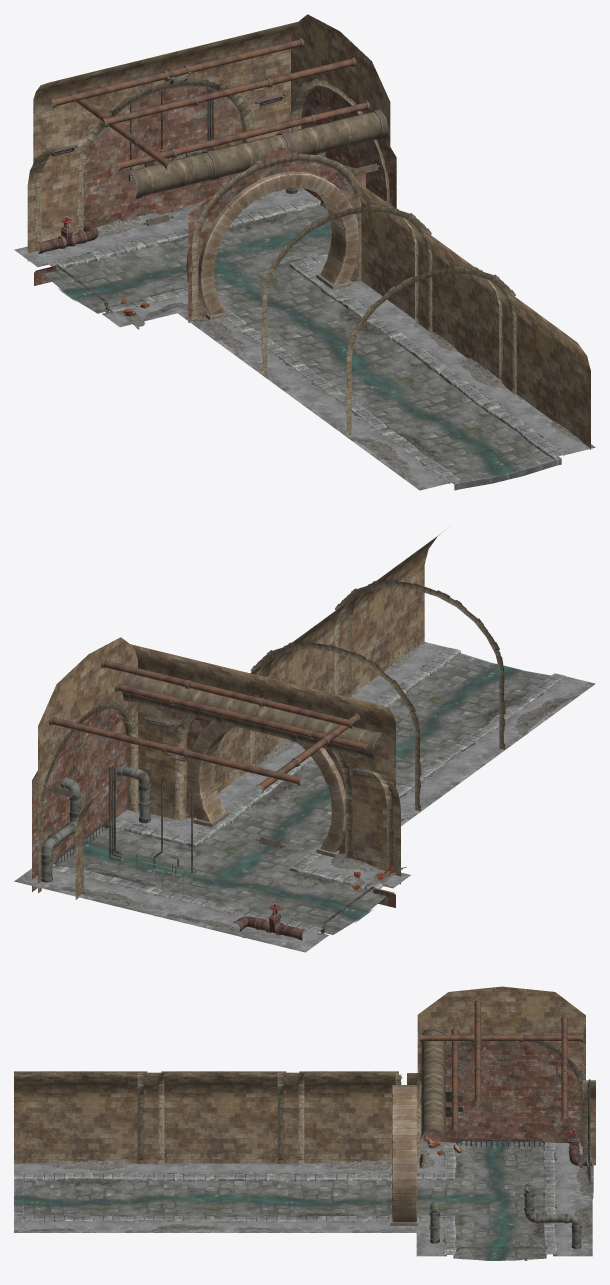
Rendered from t3_road_end_a.glb.
3 views of the same model, one above another, from view 1: azimuth 30°, elevation 25°; view 2: azimuth 150°, elevation 25°; view 3: azimuth 270°, elevation 25° (orthographic). The views are drawn at different scales.
Visible parts, largest first — view 1: um_t3_road_end_a_model_t3_road_end_a_modelShape, sewage_mesh2, sewage_mesh1; view 2: um_t3_road_end_a_model_t3_road_end_a_modelShape, sewage_mesh2, sewage_mesh1; view 3: um_t3_road_end_a_model_t3_road_end_a_modelShape, sewage_mesh2, sewage_mesh1.
Boxes of the visible parts, bbox=[...] form: um_t3_road_end_a_model_t3_road_end_a_modelShape: bbox=[14, 14, 595, 490]; sewage_mesh2: bbox=[214, 258, 521, 476]; sewage_mesh1: bbox=[58, 223, 331, 301]; um_t3_road_end_a_model_t3_road_end_a_modelShape: bbox=[14, 531, 595, 952]; sewage_mesh2: bbox=[210, 663, 524, 882]; sewage_mesh1: bbox=[60, 839, 372, 922]; um_t3_road_end_a_model_t3_road_end_a_modelShape: bbox=[14, 986, 595, 1260]; sewage_mesh2: bbox=[14, 1193, 501, 1207]; sewage_mesh1: bbox=[482, 1141, 527, 1260].
Bounding box in the file's own units: 14.89 × 9.41 × 29.13.
9 materials, 9 textured.
